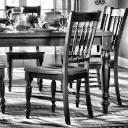chair_success: (16, 3, 103, 126)
